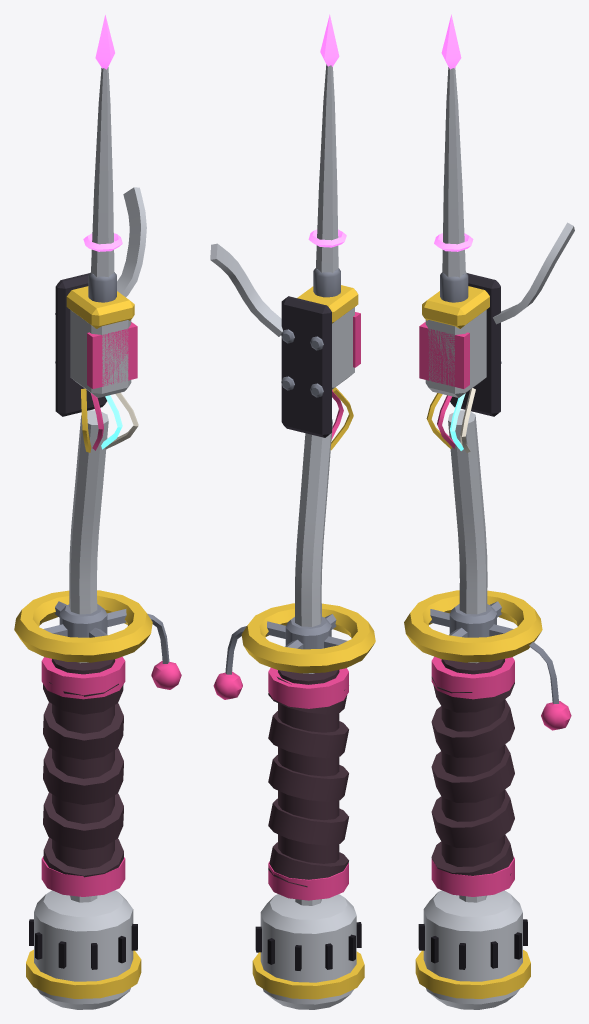
The model's file is stylus_shiv.glb.
3 renders of one model, left to right at view 1: azimuth 30°, elevation 25°; view 2: azimuth 150°, elevation 25°; view 3: azimuth 330°, elevation 25°, orthographic. The views are drawn at different scales.
Parts seen in each view (by area): view 1: Weapon; view 2: Weapon; view 3: Weapon.
Part boxes in pixels (box(x1,y1,x2,y2)): Weapon: box(14, 15, 181, 1009); Weapon: box(210, 14, 375, 1009); Weapon: box(404, 14, 574, 1009).
Bounding box in the file's own units: 0.0945 × 0.574 × 0.073.
